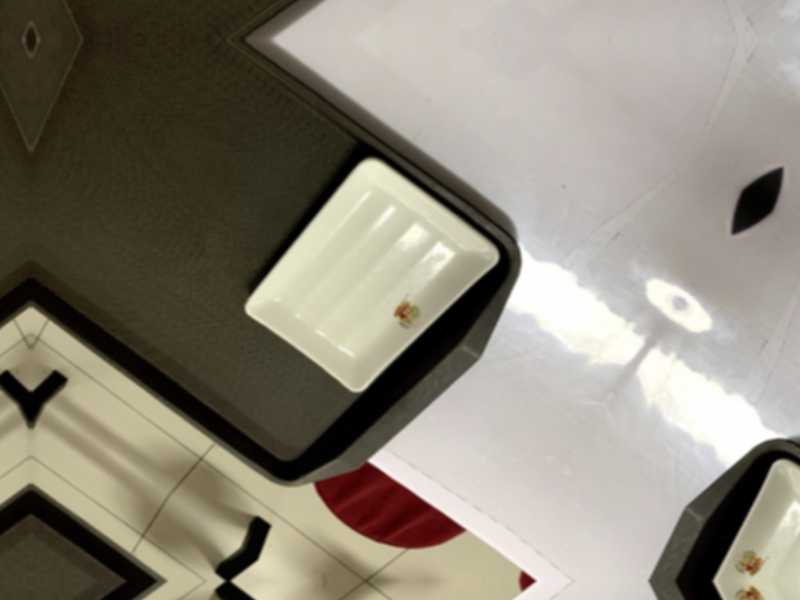dish4: (233, 139, 510, 417)
